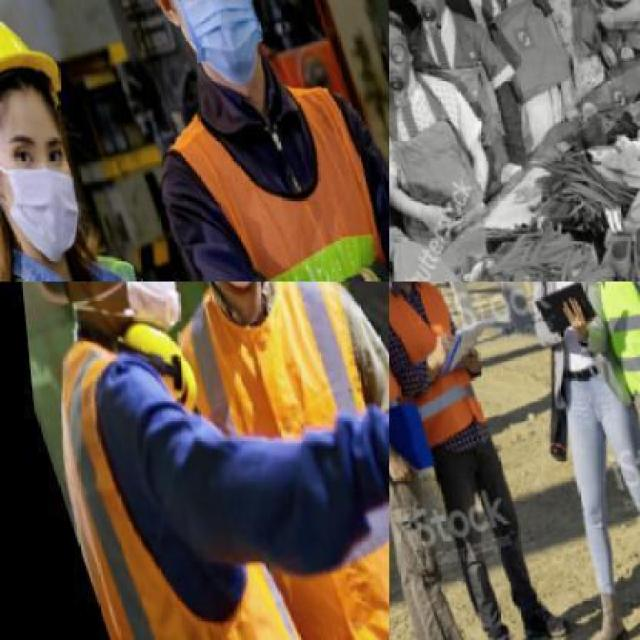Vest: (20, 310, 318, 638), (162, 282, 388, 638), (389, 281, 489, 457), (570, 282, 638, 418)
